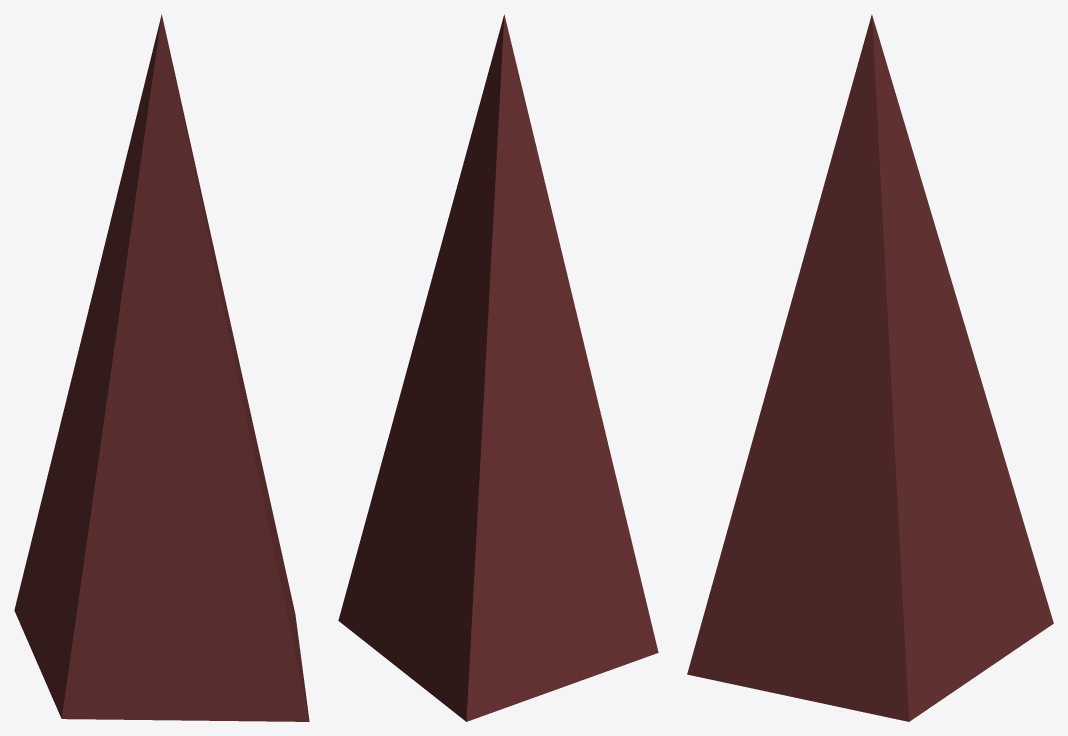
Rendered from TreeAutumn4_Alt3.fbx.
The picture shows the model from 3 angles, left to right: view 1: azimuth 30°, elevation 25°; view 2: azimuth 150°, elevation 25°; view 3: azimuth 270°, elevation 25°; orthographic projection. The views are drawn at different scales.
Parts seen in each view (by area): view 1: TreeAutumn4_Alt3; view 2: TreeAutumn4_Alt3; view 3: TreeAutumn4_Alt3.
Part boxes in pixels (x1,y1,x2,y2): TreeAutumn4_Alt3: (14,14,309,721); TreeAutumn4_Alt3: (338,14,658,721); TreeAutumn4_Alt3: (687,14,1053,721).
Size of the model in its own units: 1.26 by 2.78 by 1.46.
